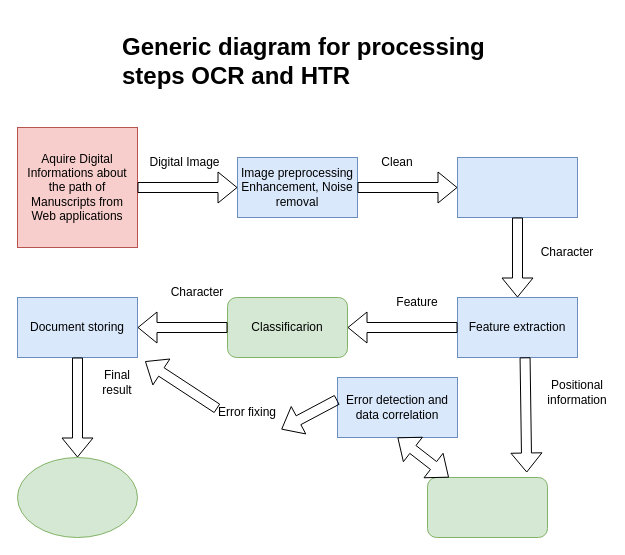
The diagram is 625 pixels wide and 555 high, and some of its shapes have lost their labels. Each missing label, with the centre of its shape:
Post-processing: pixel 487 507
Segmentation, Line Character, and Word: pixel 517 187
Web application: pixel 77 497
